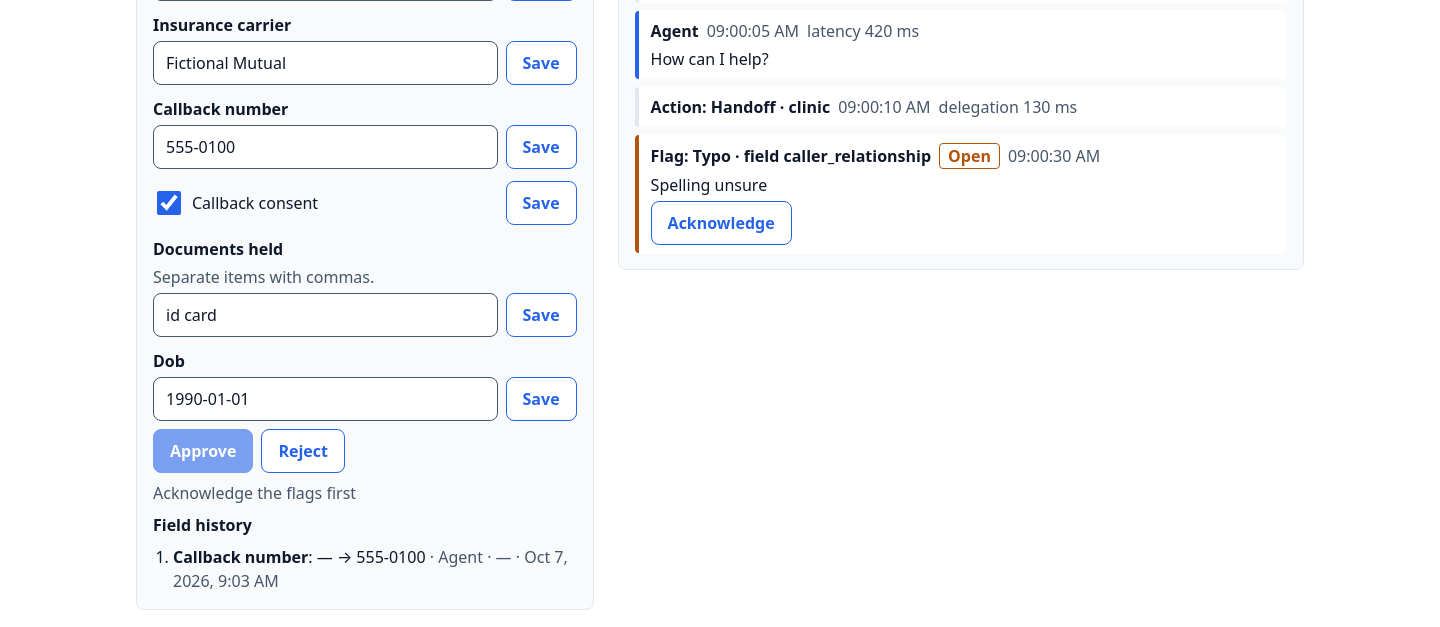
Scenario: call detail page › blocks approve while a flag is open, then approves after acknowledging
(page scrolled)
Expected: the button with test id "form-approve" is disabled, [153,429,253,473]
Expected: the text with test id "form-approve-hint" reads "Acknowledge the flags first", [153,482,356,504]
Click the button "Acknowledge".
click(721, 223)  # box [651,201,792,245]
(page scrolled)
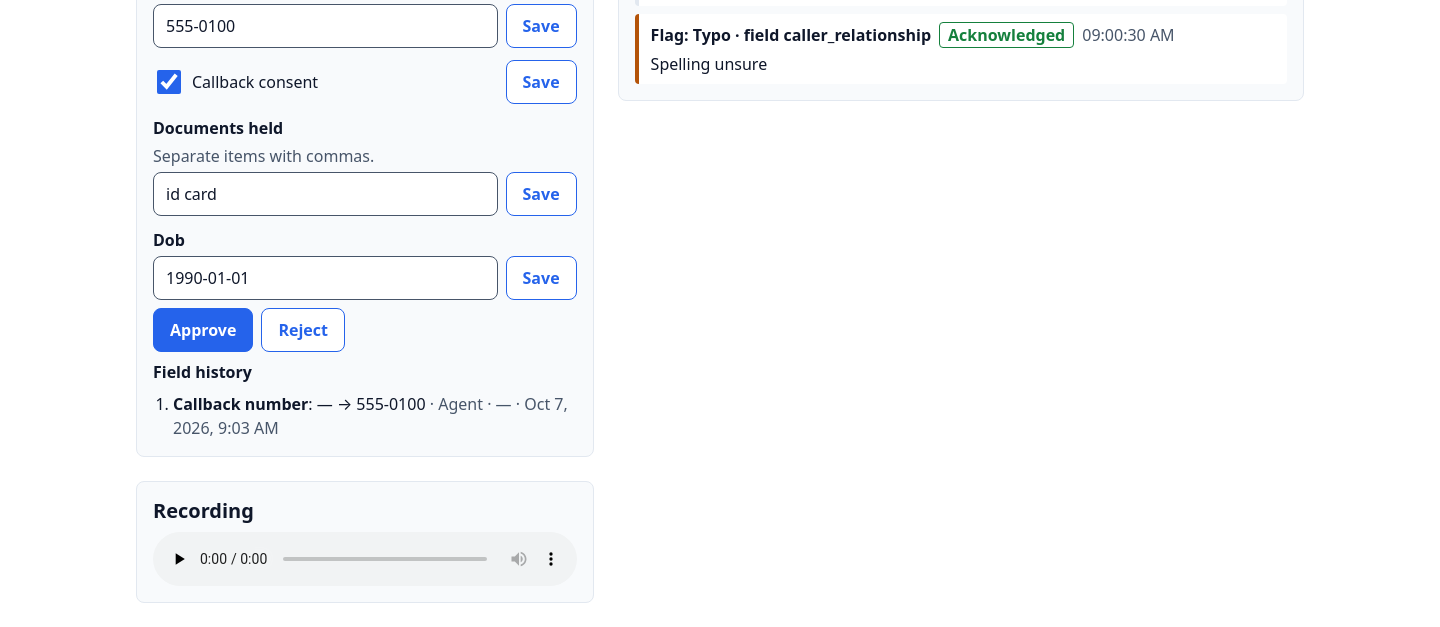
Result: the button with test id "form-approve" is enabled
Click the button with test id "form-approve".
click(203, 330)  # box [153,308,253,352]
(page scrolled)
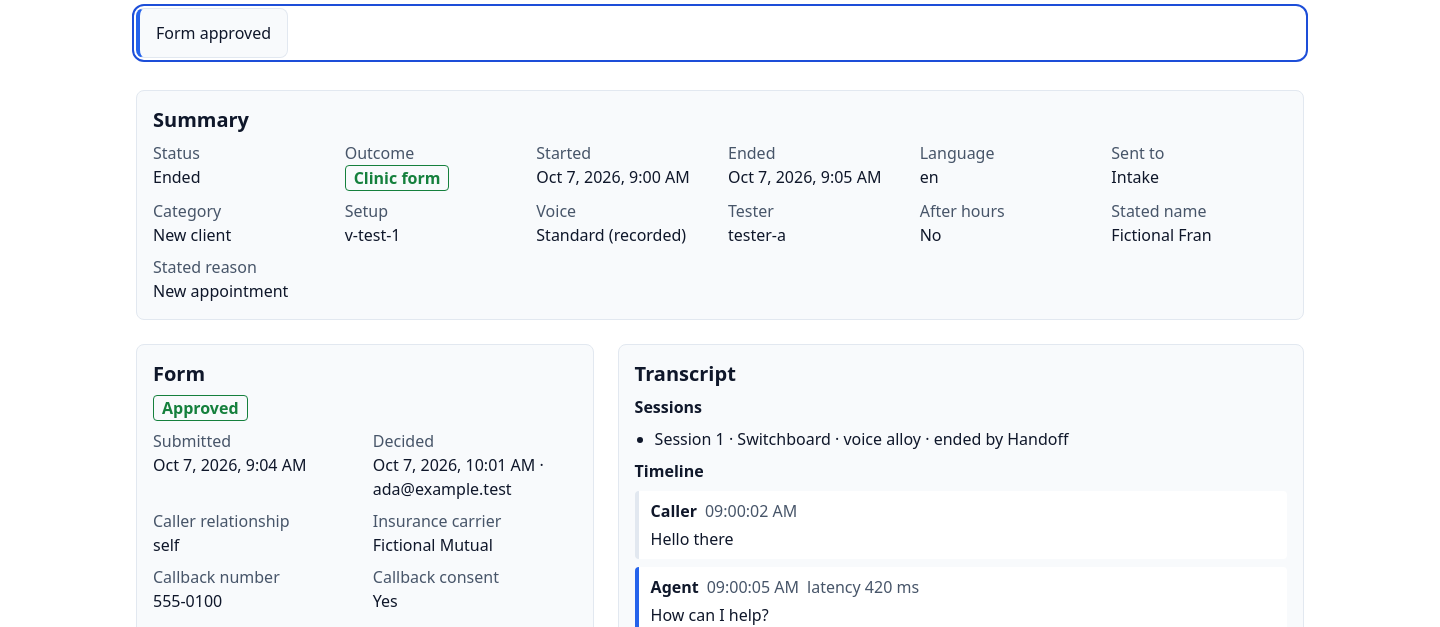
Result: the message with test id "detail-result" reads "Form approved" at [156,22,271,44]
Result: the button with test id "form-approve" is gone
